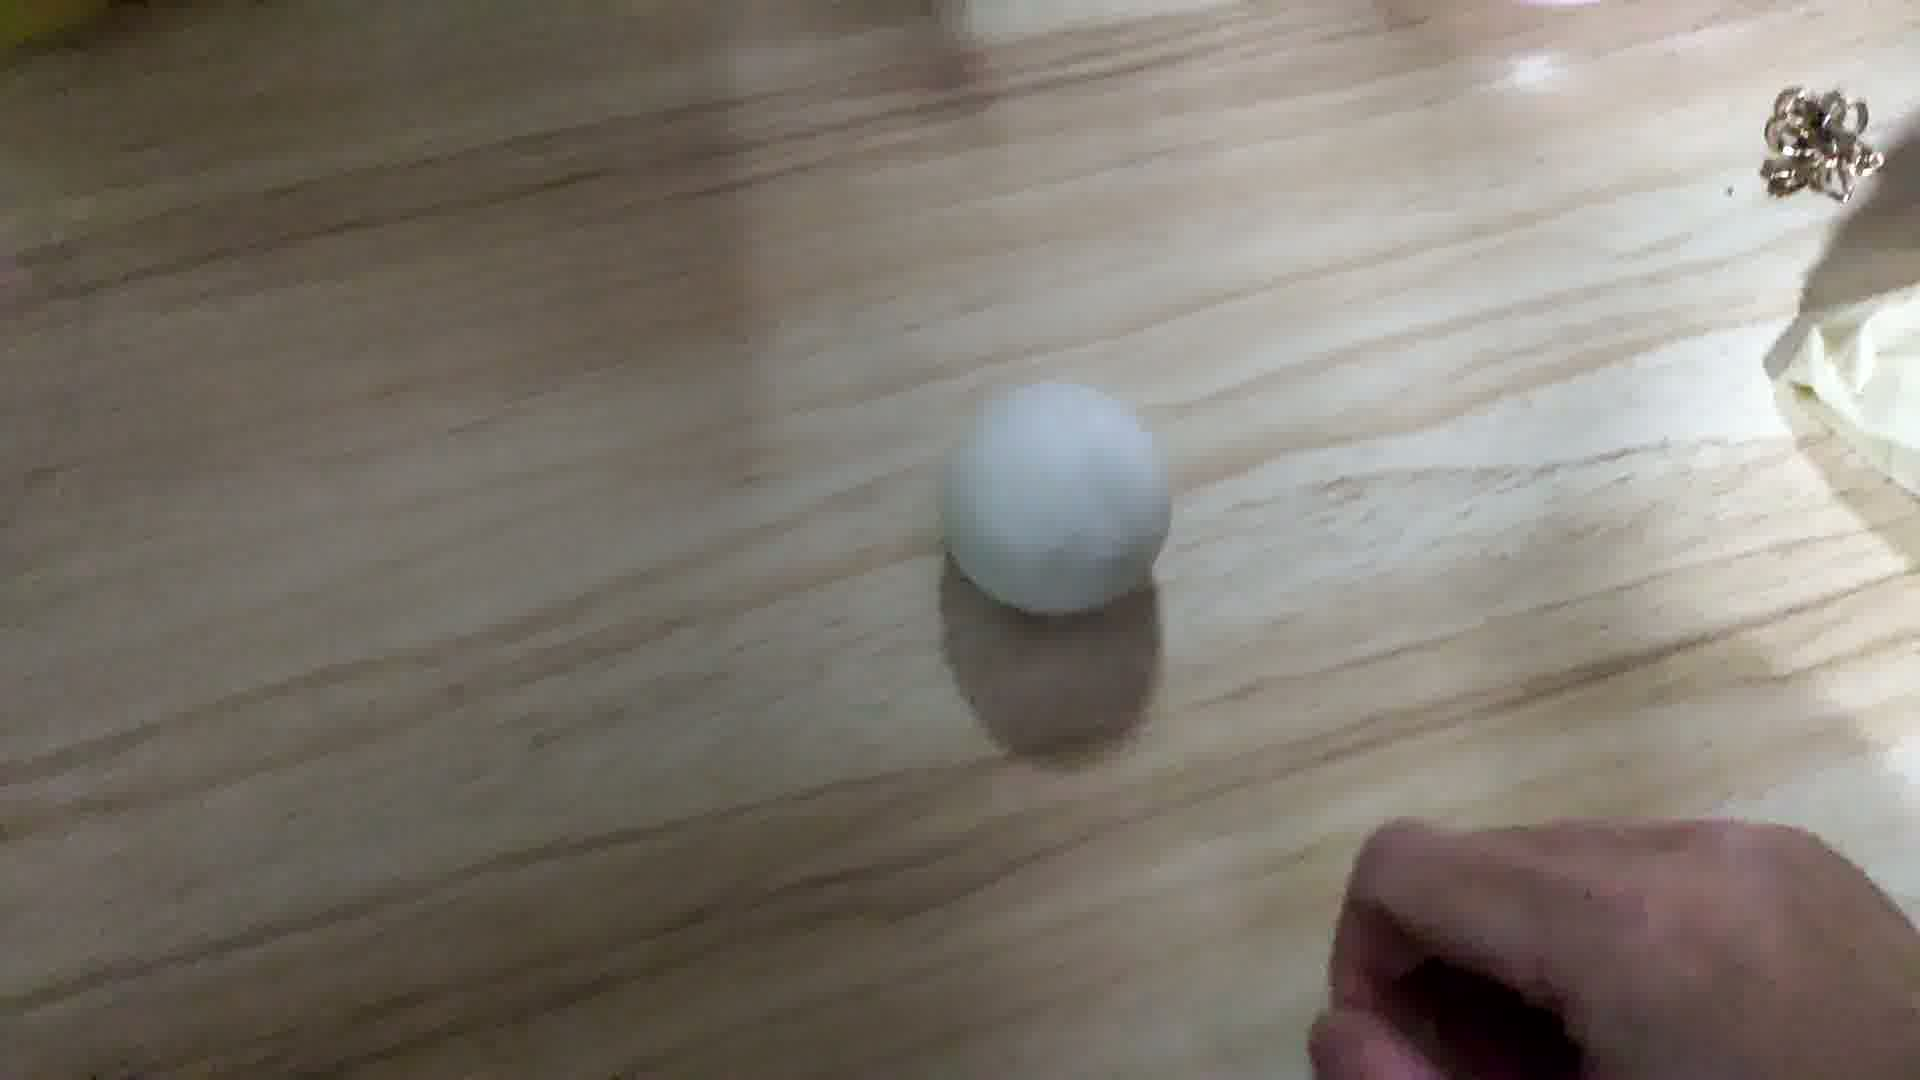Ball: (943, 378, 1172, 616)
